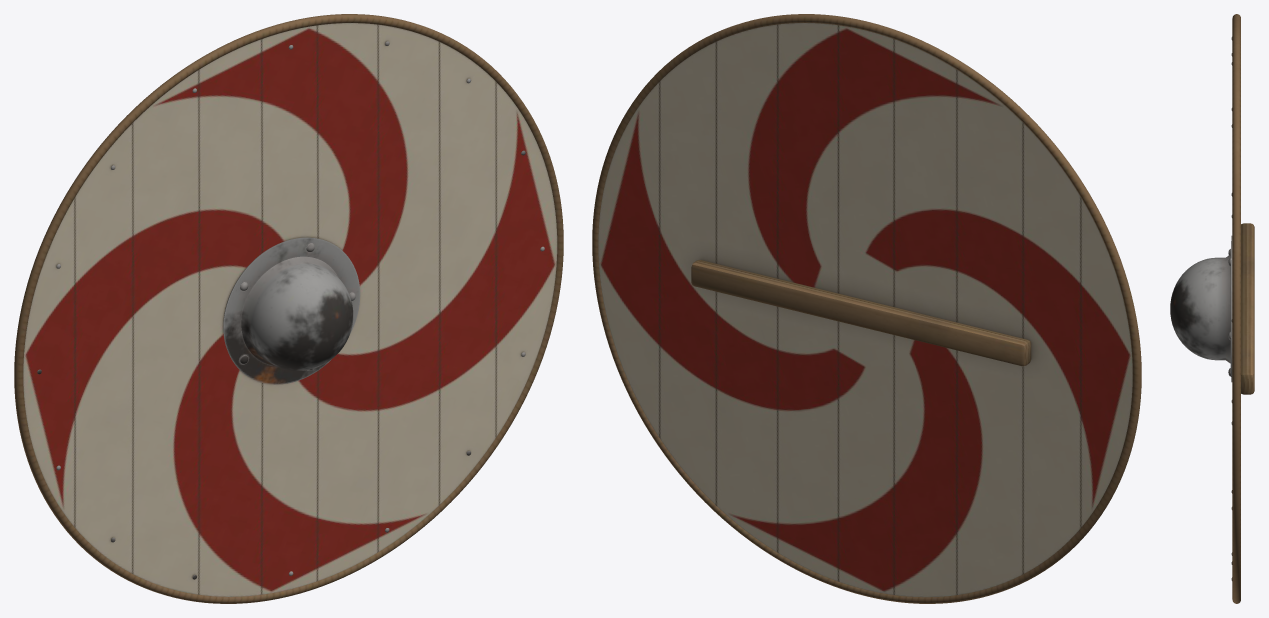
The model's file is round_shield.glb.
3 views of the same model, side by side, from view 1: azimuth 30°, elevation 25°; view 2: azimuth 150°, elevation 25°; view 3: azimuth 270°, elevation 25° (orthographic). The views are drawn at different scales.
Parts seen in each view (by area): view 1: round_shield; view 2: round_shield; view 3: round_shield.
Boxes of the visible parts, x1,y1,x2,y2 form: round_shield: (14, 14, 563, 603); round_shield: (592, 14, 1141, 603); round_shield: (1170, 14, 1254, 603).
Size of the model in its own units: 0.8504 by 0.8504 by 0.122.
1 material, 1 textured.
